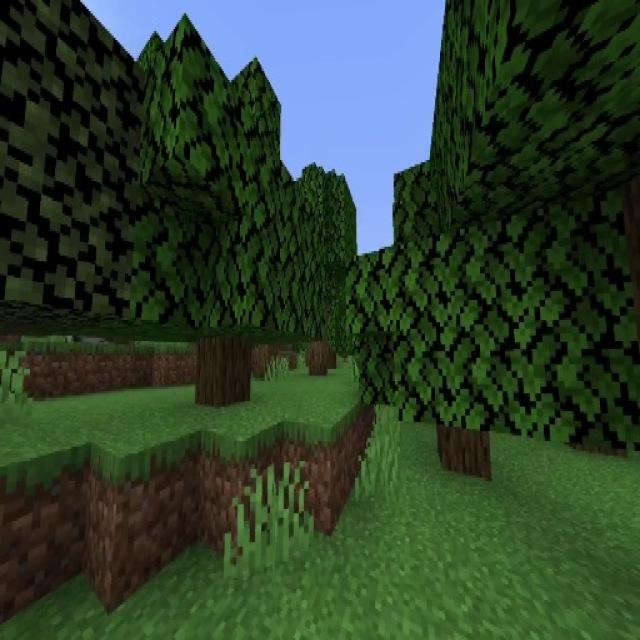oak: (352, 152, 584, 480), (126, 24, 314, 406)
oak_log: (198, 338, 250, 404), (438, 424, 492, 479)
